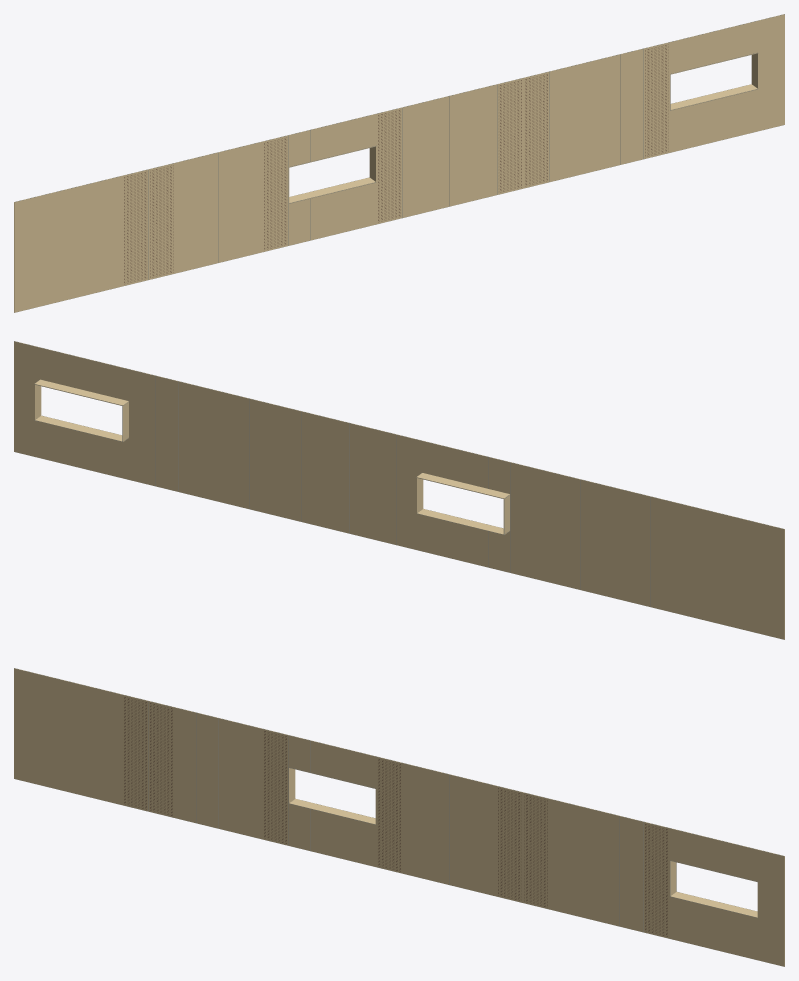
Rendered from modell.glb.
3 renders of one model, top to bottom at view 1: azimuth 30°, elevation 25°; view 2: azimuth 150°, elevation 25°; view 3: azimuth 330°, elevation 25°, orthographic.
Visible parts, largest first — view 1: 2026-196 ballrom_vest; view 2: 2026-196 ballrom_vest; view 3: 2026-196 ballrom_vest.
Part boxes in pixels (x1,y1,x2,y2): 2026-196 ballrom_vest: (14, 14, 784, 312); 2026-196 ballrom_vest: (14, 341, 784, 639); 2026-196 ballrom_vest: (14, 668, 784, 966).
Bounding box in the file's own units: 17669 × 2424 × 253.
Materials: 3 (1 with a texture image).
